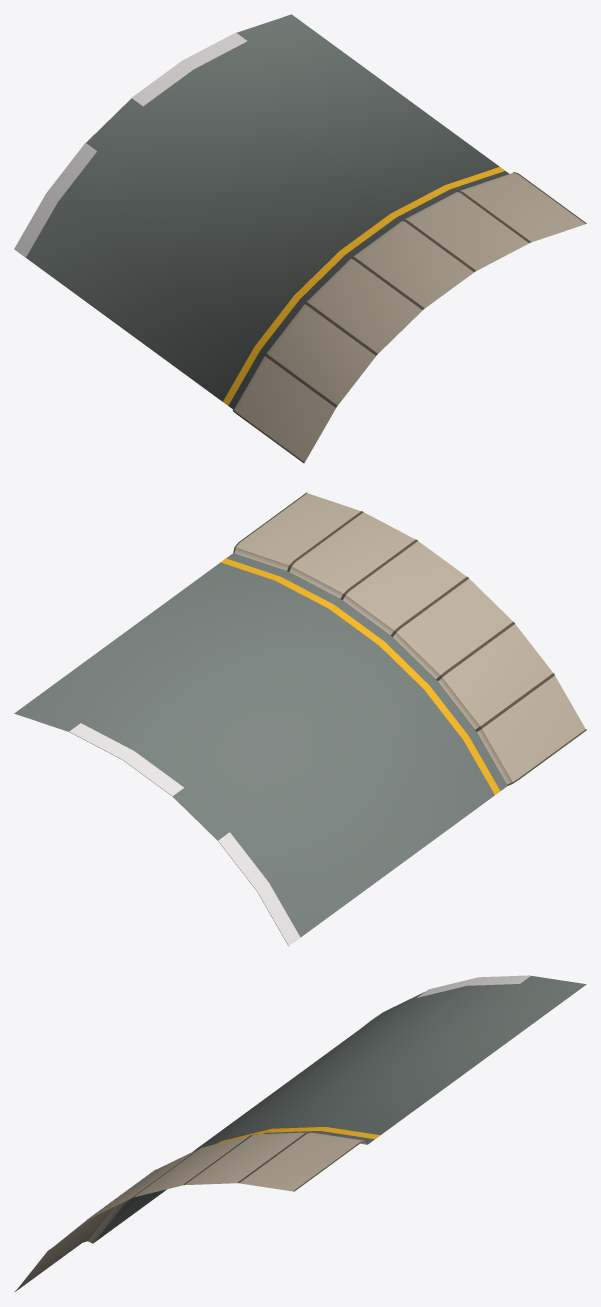
Rendered from Road04.fbx.
3 renders of one model, top to bottom at view 1: azimuth 30°, elevation 25°; view 2: azimuth 150°, elevation 25°; view 3: azimuth 330°, elevation 25°, orthographic.
Visible parts, largest first — view 1: Road04; view 2: Road04; view 3: Road04.
Boxes of the visible parts, box(x1,y1,x2,y2) form: Road04: box(14, 14, 586, 463); Road04: box(14, 492, 586, 946); Road04: box(14, 975, 586, 1291).
Size of the model in its own units: 1107 by 652 by 2000.
